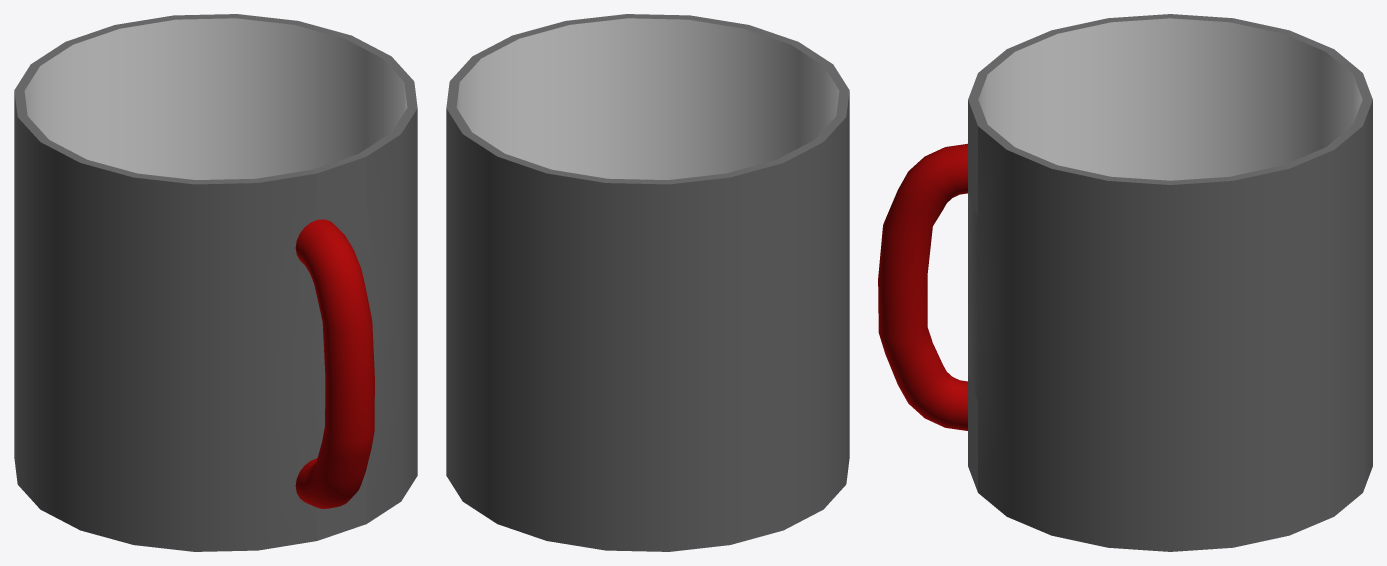
The model's file is fbx_Mug_v1.0.fbx.
The picture shows the model from 3 angles, left to right: view 1: azimuth 30°, elevation 25°; view 2: azimuth 150°, elevation 25°; view 3: azimuth 270°, elevation 25°; orthographic projection.
Parts seen in each view (by area): view 1: polySurface2; view 2: polySurface2; view 3: polySurface2.
Part boxes in pixels (x1=…): polySurface2: x1=14, y1=14, x2=417, y2=551; polySurface2: x1=446, y1=14, x2=849, y2=551; polySurface2: x1=878, y1=14, x2=1372, y2=551.
Bounding box in the file's own units: 2 × 2 × 2.44.
